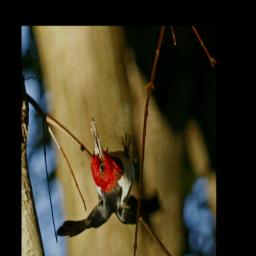Woodpecker: (51, 115, 162, 249)
